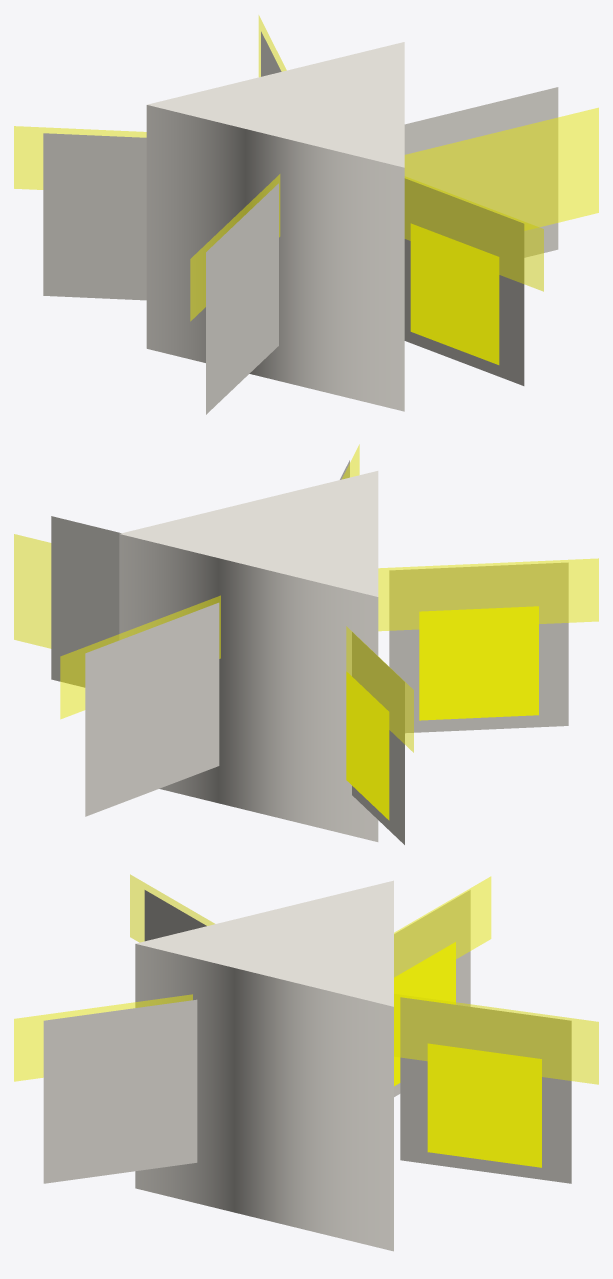
Rendered from triangular-prism.glb.
3 views of the same model, one above another, from view 1: azimuth 30°, elevation 25°; view 2: azimuth 150°, elevation 25°; view 3: azimuth 270°, elevation 25° (orthographic).
Parts seen in each view (by area): view 1: TriQR_Body, TriQR_Label (×4), TriQR_FaceSurface_face-4, TriQR_FaceSurface_name-face, TriQR_FaceSurface_face-3, TriQR_FaceSurface_face-2, TriQR_QR_face-2; view 2: TriQR_Body, TriQR_Label (×4), TriQR_FaceSurface_face-5, TriQR_FaceSurface_face-3, TriQR_QR_face-3, TriQR_FaceSurface_name-face, TriQR_QR_face-4, TriQR_FaceSurface_face-4; view 3: TriQR_Body, TriQR_FaceSurface_face-2, TriQR_Label (×4), TriQR_FaceSurface_face-5, TriQR_QR_face-5, TriQR_FaceSurface_face-4, TriQR_QR_face-4, TriQR_FaceSurface_face-3.
Boxes of the visible parts, x1,y1,x2,y2 form: TriQR_Body: [146, 42, 404, 411]; TriQR_Label (×4): [14, 107, 598, 321]; TriQR_FaceSurface_face-4: [43, 133, 146, 300]; TriQR_FaceSurface_name-face: [404, 87, 558, 257]; TriQR_FaceSurface_face-3: [206, 183, 278, 414]; TriQR_FaceSurface_face-2: [404, 178, 524, 385]; TriQR_QR_face-2: [410, 223, 499, 364]; TriQR_Body: [119, 471, 378, 841]; TriQR_Label (×4): [14, 534, 598, 752]; TriQR_FaceSurface_face-5: [85, 602, 219, 816]; TriQR_FaceSurface_face-3: [389, 562, 568, 733]; TriQR_QR_face-3: [419, 606, 538, 720]; TriQR_FaceSurface_name-face: [51, 516, 121, 687]; TriQR_QR_face-4: [346, 671, 389, 820]; TriQR_FaceSurface_face-4: [352, 632, 404, 844]; TriQR_Body: [135, 880, 393, 1251]; TriQR_FaceSurface_face-2: [43, 999, 197, 1183]; TriQR_Label (×4): [14, 874, 598, 1084]; TriQR_FaceSurface_face-5: [400, 997, 571, 1183]; TriQR_QR_face-5: [427, 1043, 541, 1167]; TriQR_FaceSurface_face-4: [394, 890, 470, 1096]; TriQR_QR_face-4: [394, 942, 455, 1086]; TriQR_FaceSurface_face-3: [144, 890, 206, 941].
Bounding box in the file's own units: 3.82 × 1.8 × 3.9.
15 materials, 9 textured.
